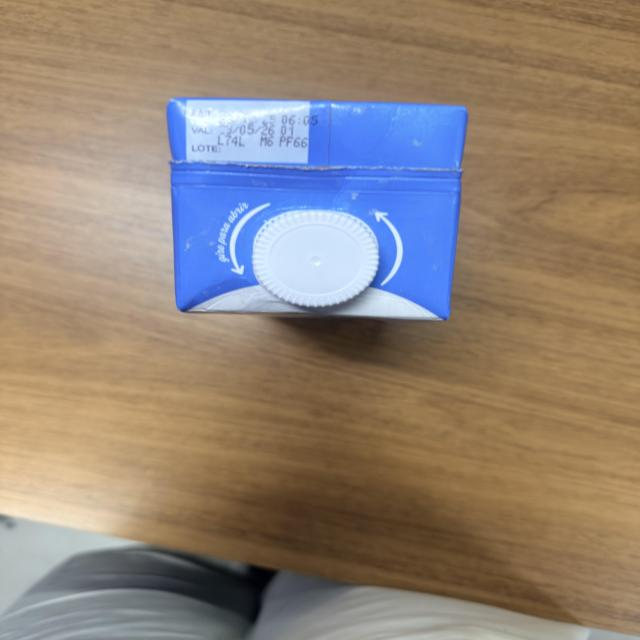Caixa de Leite: (166, 99, 470, 324)
